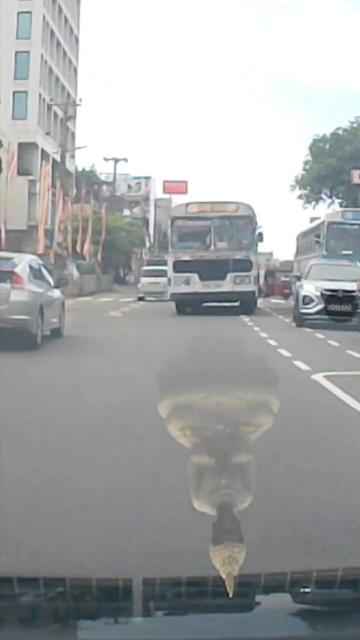illegal overtaking: (150, 197, 271, 316)
